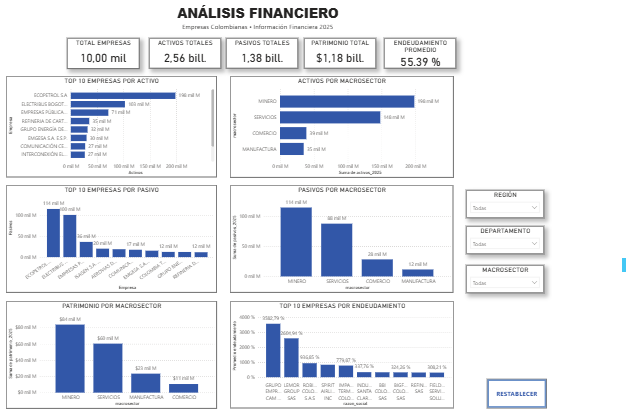

The page's visual inventory and layout, read from the dashboard file:
{"tool":"powerbi","page":{"name":"Análisis financiero","canvas":[1400,1100],"ordinal":3},"visuals":[{"type":"card","title":"TOTAL EMPRESAS","fields":{"Values":["CountNonNull(vw_finanzas_empresa.razon_social)"]},"box":[172.6,100.9,180.7,76.5],"z":0},{"type":"clusteredBarChart","title":"TOP 10 EMPRESAS POR ACTIVO","fields":{"Category":["vw_finanzas_empresa.razon_social"],"Y":["Sum(vw_finanzas_empresa.activos_2025)"]},"box":[19.5,196.1,526.8,253.2],"z":1000},{"type":"clusteredColumnChart","title":"TOP 10 EMPRESAS POR PASIVO","fields":{"Category":["vw_finanzas_empresa.razon_social"],"Y":["Sum(vw_finanzas_empresa.pasivos_2025)"]},"box":[19.5,466.8,526.8,269.3],"z":2000},{"type":"clusteredBarChart","title":"ACTIVOS POR MACROSECTOR","fields":{"Category":["vw_finanzas_empresa.macrosector"],"Y":["Sum(vw_finanzas_empresa.activos_2025)"]},"box":[580.5,195.1,558.5,253.7],"z":3000},{"type":"slicer","title":"REGIÓN","fields":{"Values":["vw_finanzas_empresa.region"]},"box":[1169.2,480.5,195.1,70.1],"z":4000},{"type":"slicer","title":"DEPARTAMENTO","fields":{"Values":["vw_finanzas_empresa.departamento"]},"box":[1169.2,570.4,195.1,70.1],"z":5000},{"type":"slicer","title":"MACROSECTOR","fields":{"Values":["vw_finanzas_empresa.macrosector"]},"box":[1169.2,666.5,195.1,70.1],"z":6000},{"type":"textbox","box":[0,10.7,1298.8,76.2],"z":7000},{"type":"actionButton","title":"LIMPIAR FILTROS","box":[1223.6,952.7,149.1,72.7],"z":8000},{"type":"card","title":"ACTIVOS TOTALES","fields":{"Values":["Sum(vw_finanzas_empresa.activos_2025)"]},"box":[376.6,99.1,179.9,76.2],"z":9000},{"type":"card","title":"PASIVOS TOTALES","fields":{"Values":["Sum(vw_finanzas_empresa.pasivos_2025)"]},"box":[570.2,99.1,179.9,76.2],"z":10000},{"type":"card","title":"PATRIMONIO TOTAL","fields":{"Values":["Sum(vw_finanzas_empresa.patrimonio_2025)"]},"box":[763.8,99.1,179.9,76.2],"z":11000},{"type":"clusteredColumnChart","title":"PASIVOS POR MACROSECTOR","fields":{"Category":["vw_finanzas_empresa.macrosector"],"Y":["Sum(vw_finanzas_empresa.pasivos_2025)"]},"box":[581.2,467.2,558.4,268.6],"z":12000},{"type":"card","title":"ENDEUDAMIENTO PROMEDIO","fields":{"Values":["vw_finanzas_empresa.Promedio endeudamiento"]},"box":[965.9,100,180.5,75.6],"z":13001},{"type":"clusteredColumnChart","title":"PATRIMONIO POR MACROSECTOR","fields":{"Category":["vw_finanzas_empresa.macrosector"],"Y":["Sum(vw_finanzas_empresa.patrimonio_2025)"]},"box":[20,756.4,527.3,269.1],"z":13002},{"type":"clusteredColumnChart","title":"TOP 10 EMPRESAS POR ENDEUDAMIENTO","fields":{"Y":["vw_finanzas_empresa.Promedio endeudamiento"],"Category":["vw_finanzas_empresa.razon_social"]},"box":[580,757.5,560,267.5],"z":13003}]}

Visuals, with their boxes on the page's 1400x1100 design canvas (x1, y1, x2, y2). These are canvas units, not pixel positions in the 627x414 screenshot, which may show the page scaled, cropped or inside an application window:
"TOTAL EMPRESAS" card: (left=173, top=101, right=353, bottom=177)
"TOP 10 EMPRESAS POR ACTIVO" clusteredBarChart: (left=20, top=196, right=546, bottom=449)
"TOP 10 EMPRESAS POR PASIVO" clusteredColumnChart: (left=20, top=467, right=546, bottom=736)
"ACTIVOS POR MACROSECTOR" clusteredBarChart: (left=580, top=195, right=1139, bottom=449)
"REGIÓN" slicer: (left=1169, top=480, right=1364, bottom=551)
"DEPARTAMENTO" slicer: (left=1169, top=570, right=1364, bottom=640)
"MACROSECTOR" slicer: (left=1169, top=666, right=1364, bottom=737)
textbox: (left=0, top=11, right=1299, bottom=87)
"LIMPIAR FILTROS" actionButton: (left=1224, top=953, right=1373, bottom=1025)
"ACTIVOS TOTALES" card: (left=377, top=99, right=556, bottom=175)
"PASIVOS TOTALES" card: (left=570, top=99, right=750, bottom=175)
"PATRIMONIO TOTAL" card: (left=764, top=99, right=944, bottom=175)
"PASIVOS POR MACROSECTOR" clusteredColumnChart: (left=581, top=467, right=1140, bottom=736)
"ENDEUDAMIENTO PROMEDIO" card: (left=966, top=100, right=1146, bottom=176)
"PATRIMONIO POR MACROSECTOR" clusteredColumnChart: (left=20, top=756, right=547, bottom=1026)
"TOP 10 EMPRESAS POR ENDEUDAMIENTO" clusteredColumnChart: (left=580, top=758, right=1140, bottom=1025)
